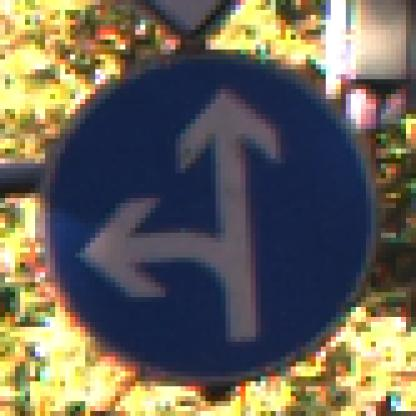Straight or Left: (41, 41, 382, 382)
